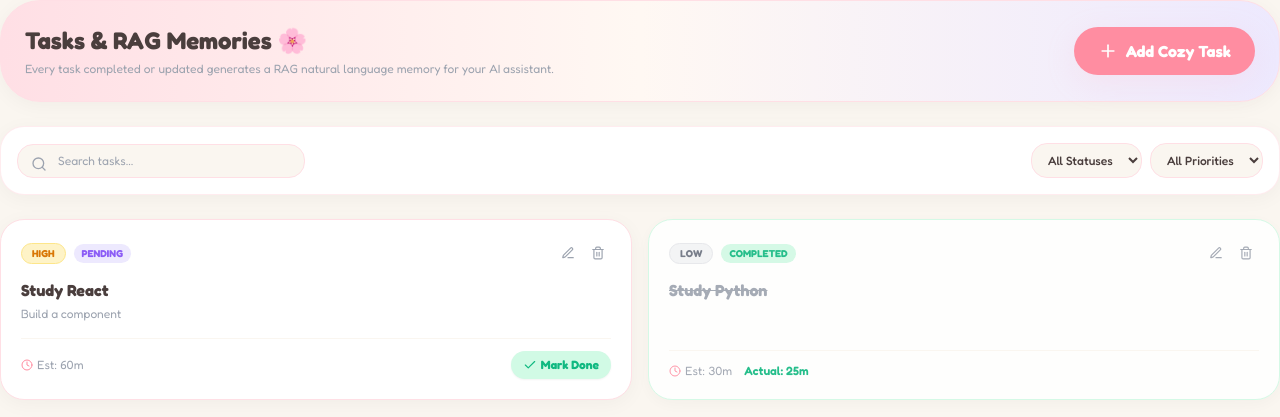
Test: TaskManager › filters tasks by search text
The image size is (1280, 417).
Type "python" into the field with placeholder "Search tasks..." at x=161, y=160, box [17,144,305,178]
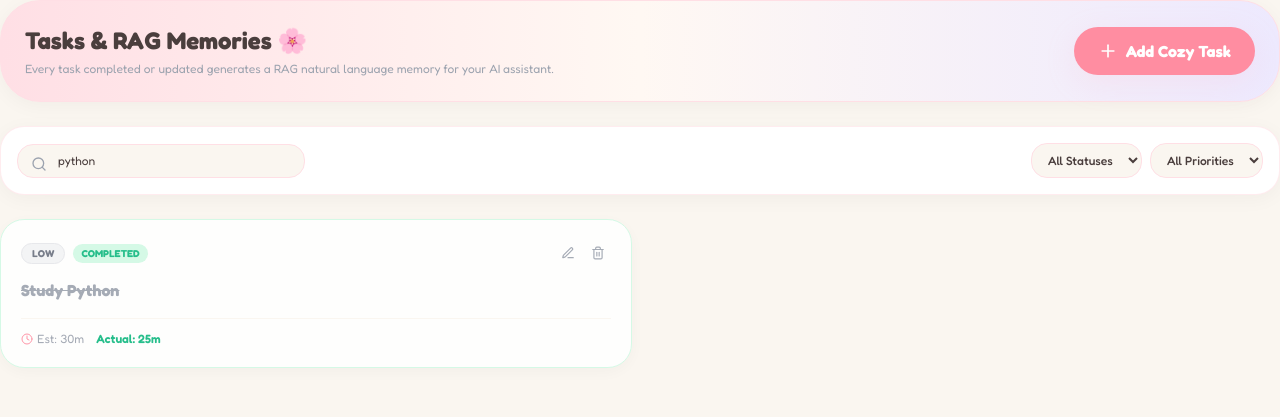
Expected: the heading "Study Python" is shown, [21,280,119,300]
Expected: the heading "Study React" is gone
